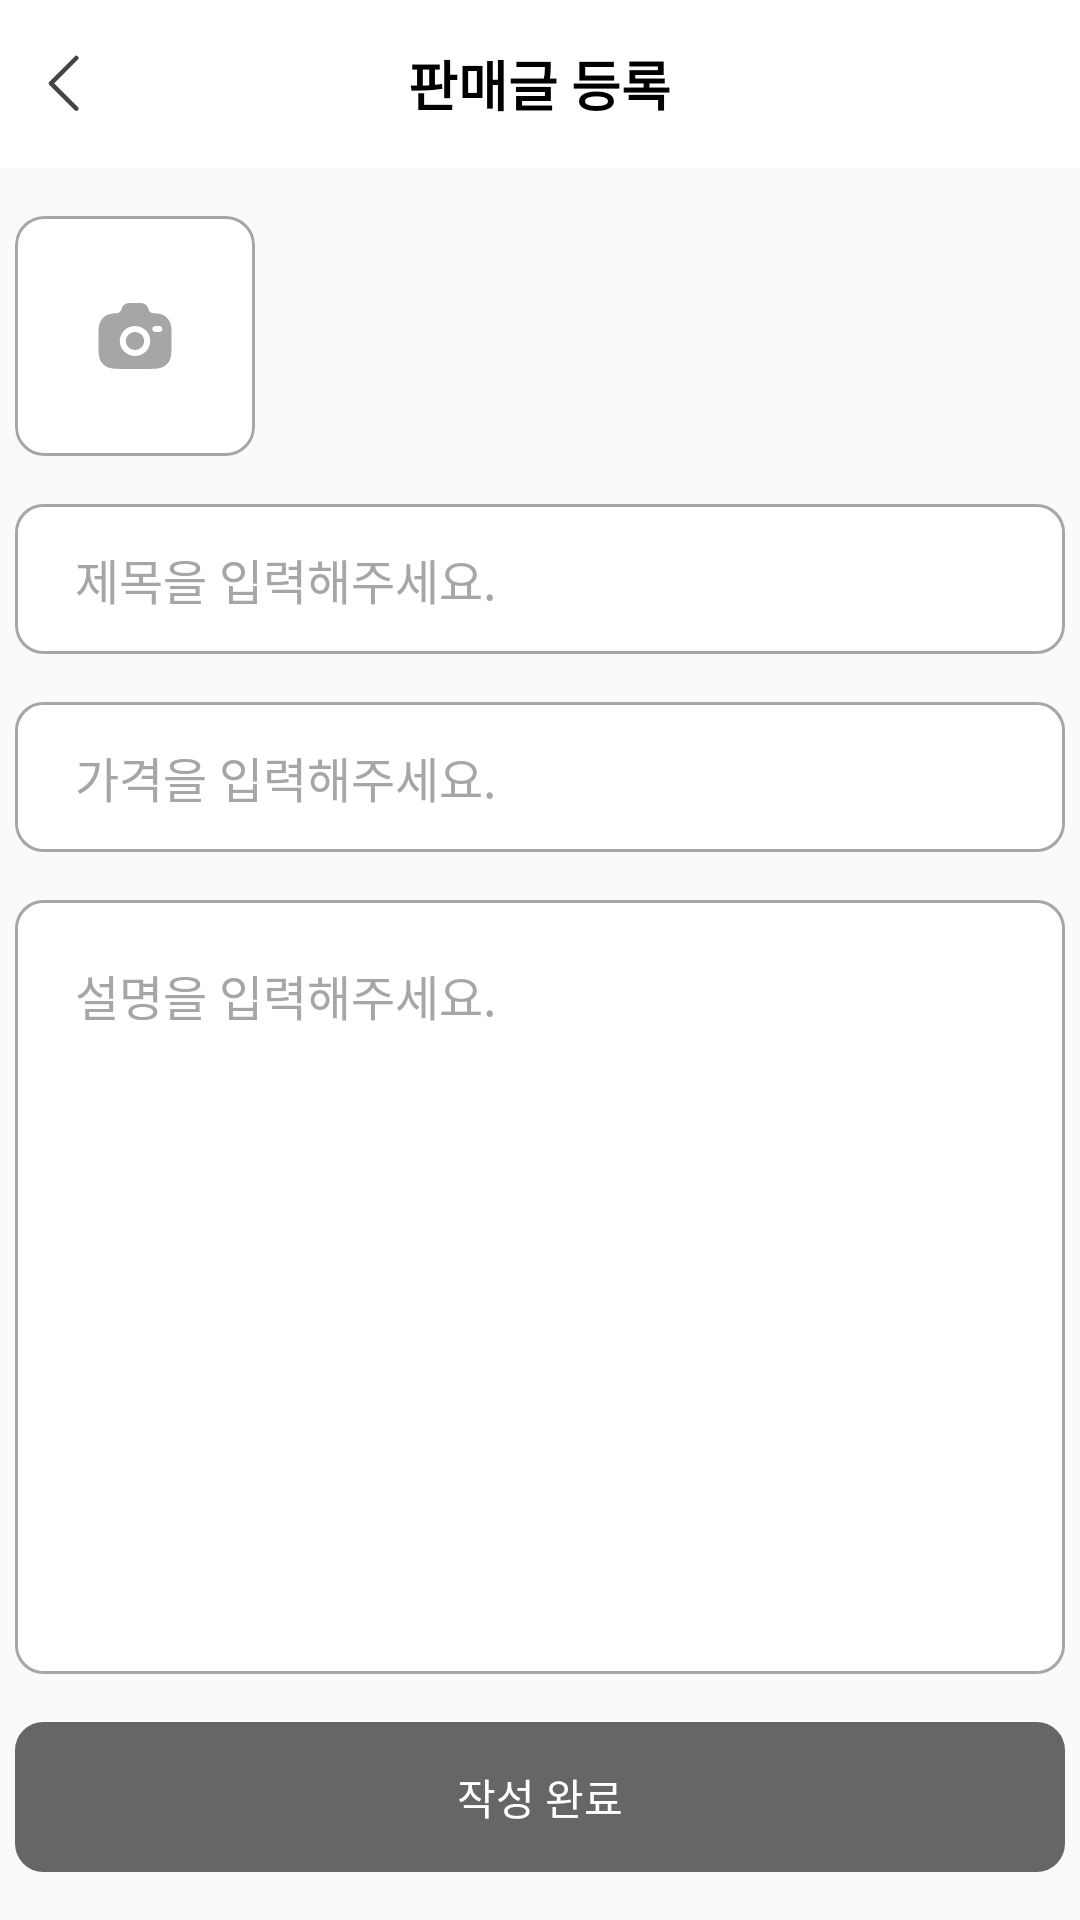

Where to tap for icons on this 1080px×1920px app screen, as point (x, y):
add photo: point (135, 336)
back: point (63, 83)
